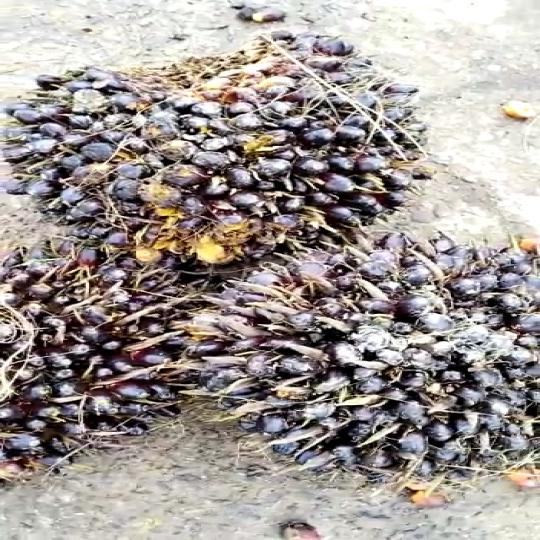mentah: (4, 24, 465, 274), (193, 224, 540, 486), (0, 244, 202, 493)
